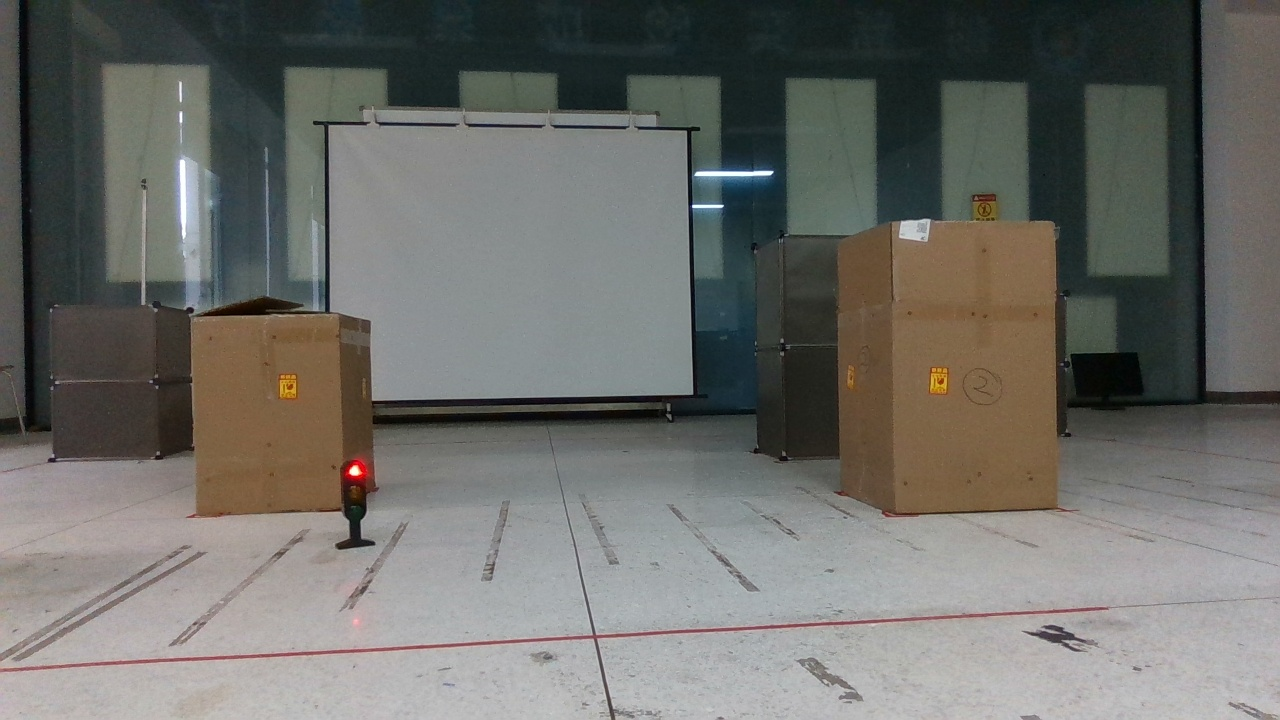red_light: (330, 449, 387, 559)
